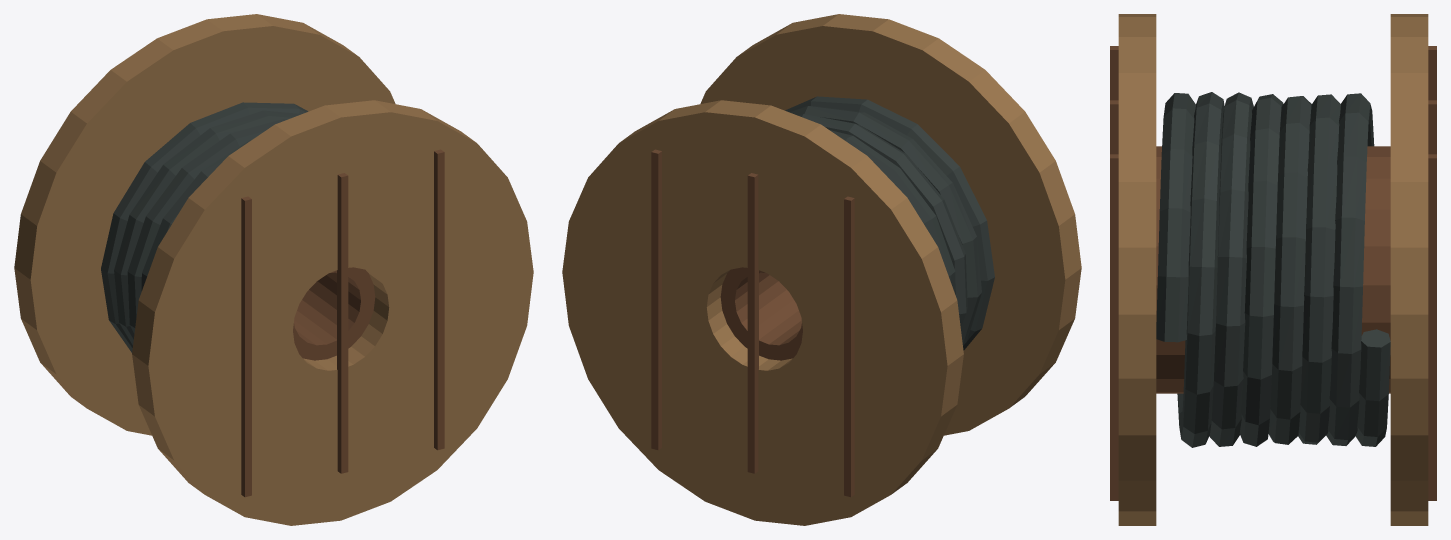
The model's file is Prop_Daily_CableReel_001.glb.
3 renders of one model, left to right at view 1: azimuth 30°, elevation 25°; view 2: azimuth 150°, elevation 25°; view 3: azimuth 270°, elevation 25°, orthographic. The views are drawn at different scales.
Visible parts, largest first — view 1: Prop_Daily_CableReel_001; view 2: Prop_Daily_CableReel_001; view 3: Prop_Daily_CableReel_001.
Boxes of the visible parts, x1,y1,x2,y2 form: Prop_Daily_CableReel_001: [14, 14, 533, 525]; Prop_Daily_CableReel_001: [562, 14, 1081, 525]; Prop_Daily_CableReel_001: [1110, 14, 1436, 525].
Size of the model in its own units: 1.36 by 1.36 by 0.865.
